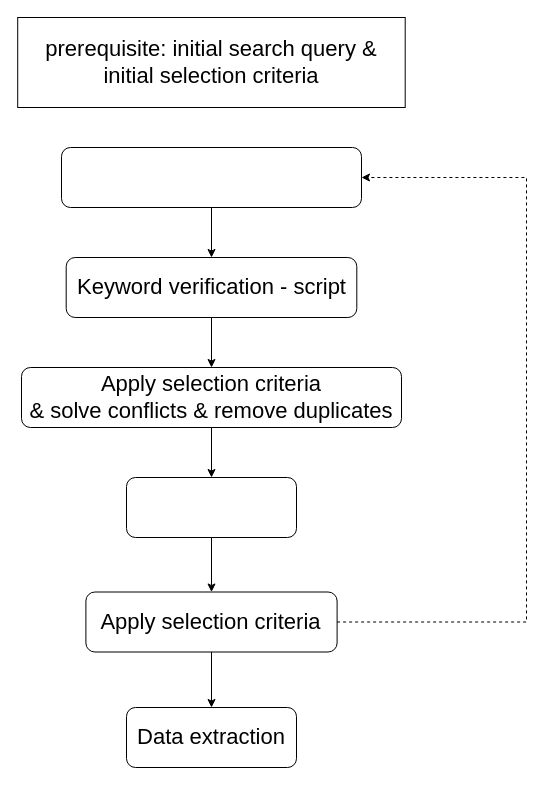
Some shapes in this 552 by 785 pixel diagram are drawn without their labels. Here are the shapes that lost their labels. From the top down, the centre of each, then its label:
At point 211,177: "Define / update search query & search in libraries".
At point 211,507: "Snowballing".
